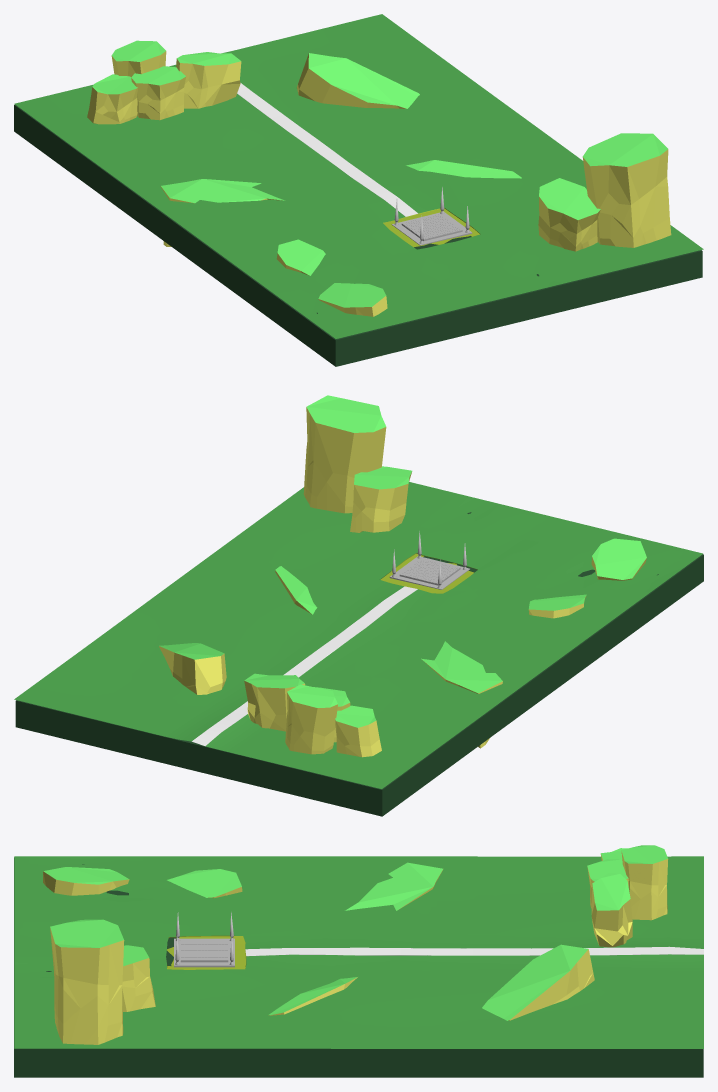
Rendered from Cell arena.obj.
3 views of the same model, one above another, from view 1: azimuth 30°, elevation 25°; view 2: azimuth 150°, elevation 25°; view 3: azimuth 270°, elevation 25° (orthographic). The views are drawn at different scales.
Parts seen in each view (by area): view 1: polySurface14 polySurface20, pCube5, polySurface15 polySurface7, polySurface3, polySurface21, polySurface14 polySurface16, polySurface14 polySurface18, polySurface14 polySurface19, polySurface9, polySurface22, pCube4, polySurface17 polySurface14 (+2 smaller); view 2: polySurface14 polySurface20, pCube5, polySurface15 polySurface7, polySurface21, polySurface17 polySurface14, polySurface3, polySurface14 polySurface16, polySurface14 polySurface19, polySurface9, polySurface22, pCube4, polySurface2 (+1 smaller); view 3: polySurface14 polySurface20, pCube5, polySurface15 polySurface7, polySurface3, polySurface17 polySurface14, polySurface14 polySurface16, polySurface9, polySurface22, pCube4, polySurface21, polySurface2, polySurface10 (+1 smaller).
Part boxes in pixels (left/top/right/bottom): polySurface14 polySurface20: left=14, top=14, right=703, bottom=338; pCube5: left=14, top=104, right=702, bottom=366; polySurface15 polySurface7: left=582, top=133, right=671, bottom=247; polySurface3: left=297, top=53, right=419, bottom=108; polySurface21: left=538, top=178, right=600, bottom=251; polySurface14 polySurface16: left=176, top=52, right=241, bottom=108; polySurface14 polySurface18: left=131, top=66, right=185, bottom=120; polySurface14 polySurface19: left=87, top=74, right=138, bottom=124; polySurface9: left=160, top=179, right=285, bottom=246; polySurface22: left=318, top=283, right=387, bottom=356; pCube4: left=391, top=187, right=472, bottom=245; polySurface17 polySurface14: left=111, top=40, right=166, bottom=77; polySurface14 polySurface20: left=14, top=482, right=702, bottom=788; pCube5: left=15, top=512, right=703, bottom=816; polySurface15 polySurface7: left=303, top=395, right=386, bottom=513; polySurface21: left=350, top=466, right=412, bottom=532; polySurface17 polySurface14: left=285, top=684, right=337, bottom=754; polySurface3: left=159, top=643, right=226, bottom=694; polySurface14 polySurface16: left=244, top=673, right=305, bottom=731; polySurface14 polySurface19: left=335, top=705, right=381, bottom=757; polySurface9: left=421, top=641, right=502, bottom=748; polySurface22: left=591, top=538, right=646, bottom=580; pCube4: left=389, top=531, right=469, bottom=589; polySurface2: left=528, top=594, right=586, bottom=618; polySurface14 polySurface20: left=14, top=856, right=703, bottom=1048; pCube5: left=14, top=857, right=703, bottom=1077; polySurface15 polySurface7: left=50, top=919, right=124, bottom=1044; polySurface3: left=482, top=944, right=594, bottom=1020; polySurface17 polySurface14: left=621, top=845, right=668, bottom=920; polySurface14 polySurface16: left=591, top=873, right=632, bottom=947; polySurface9: left=345, top=862, right=443, bottom=910; polySurface22: left=43, top=867, right=129, bottom=895; pCube4: left=174, top=912, right=234, bottom=967; polySurface21: left=122, top=945, right=155, bottom=1011; polySurface2: left=167, top=869, right=242, bottom=898; polySurface10: left=268, top=977, right=357, bottom=1015.
Size of the model in its own units: 28.23 by 10.74 by 42.73.
